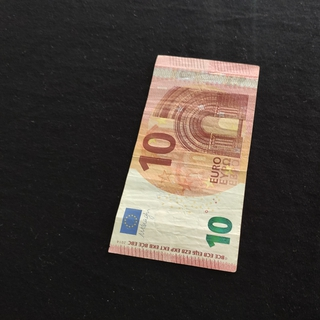10EUROFront: (108, 54, 260, 273)
